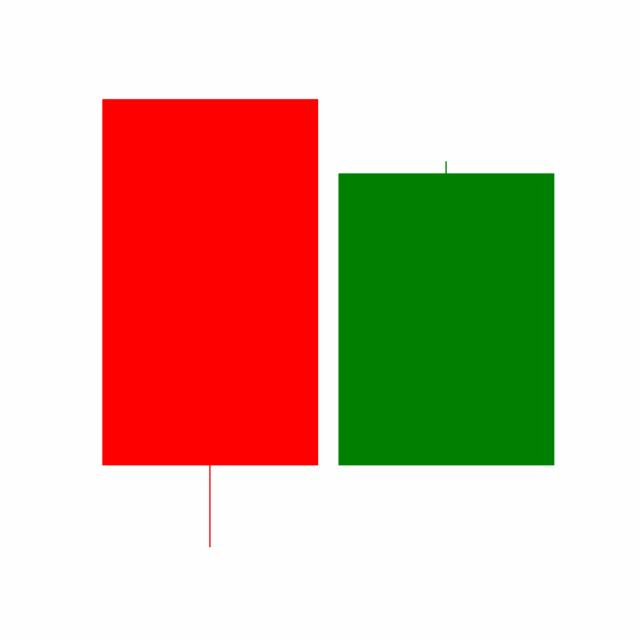Marubozu: (327, 157, 565, 468)
